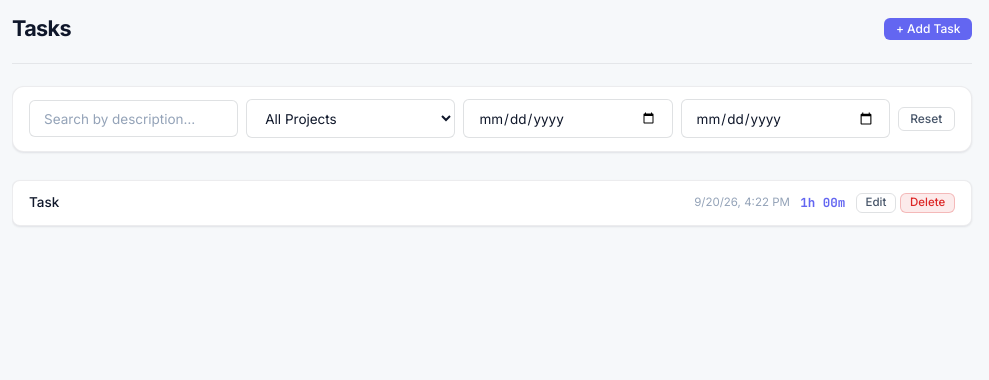
Test: TasksPage › cancel edit button hides edit form
Click the button with test id "edit-btn-6".
click(876, 203)  # box [856,193,896,213]
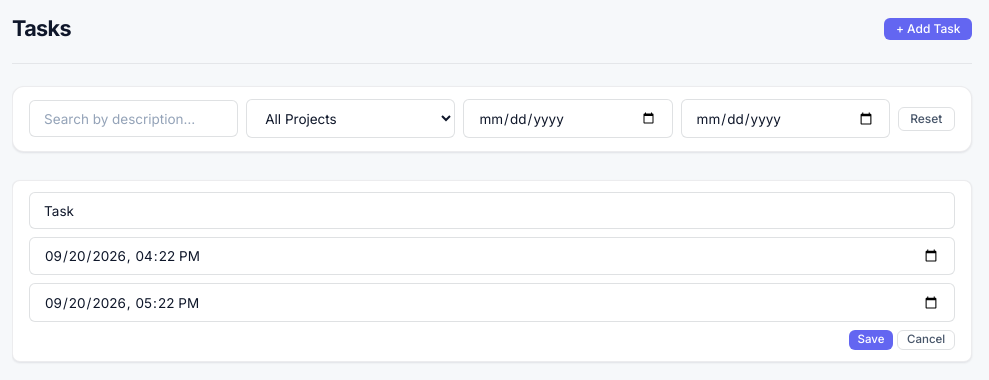
Expected: the form with test id "edit-form-6" is shown, [29,192,955,350]
Click the button with test id "cancel-edit-btn".
click(926, 340)  # box [897,330,955,350]
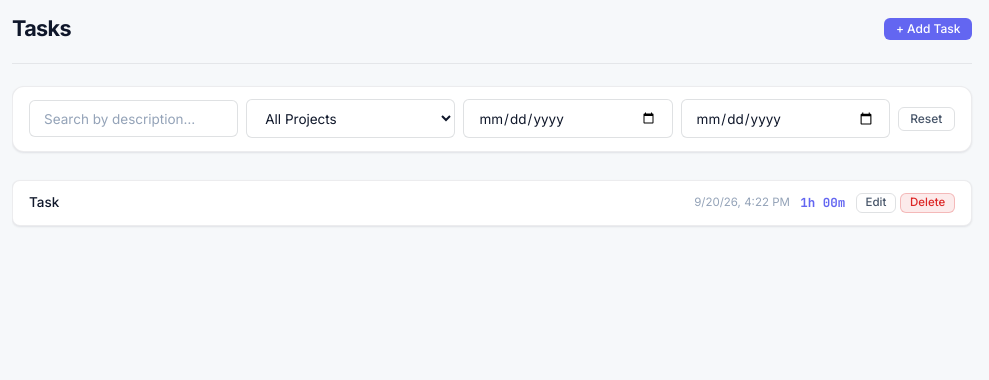
Expected: the form with test id "edit-form-6" is gone
